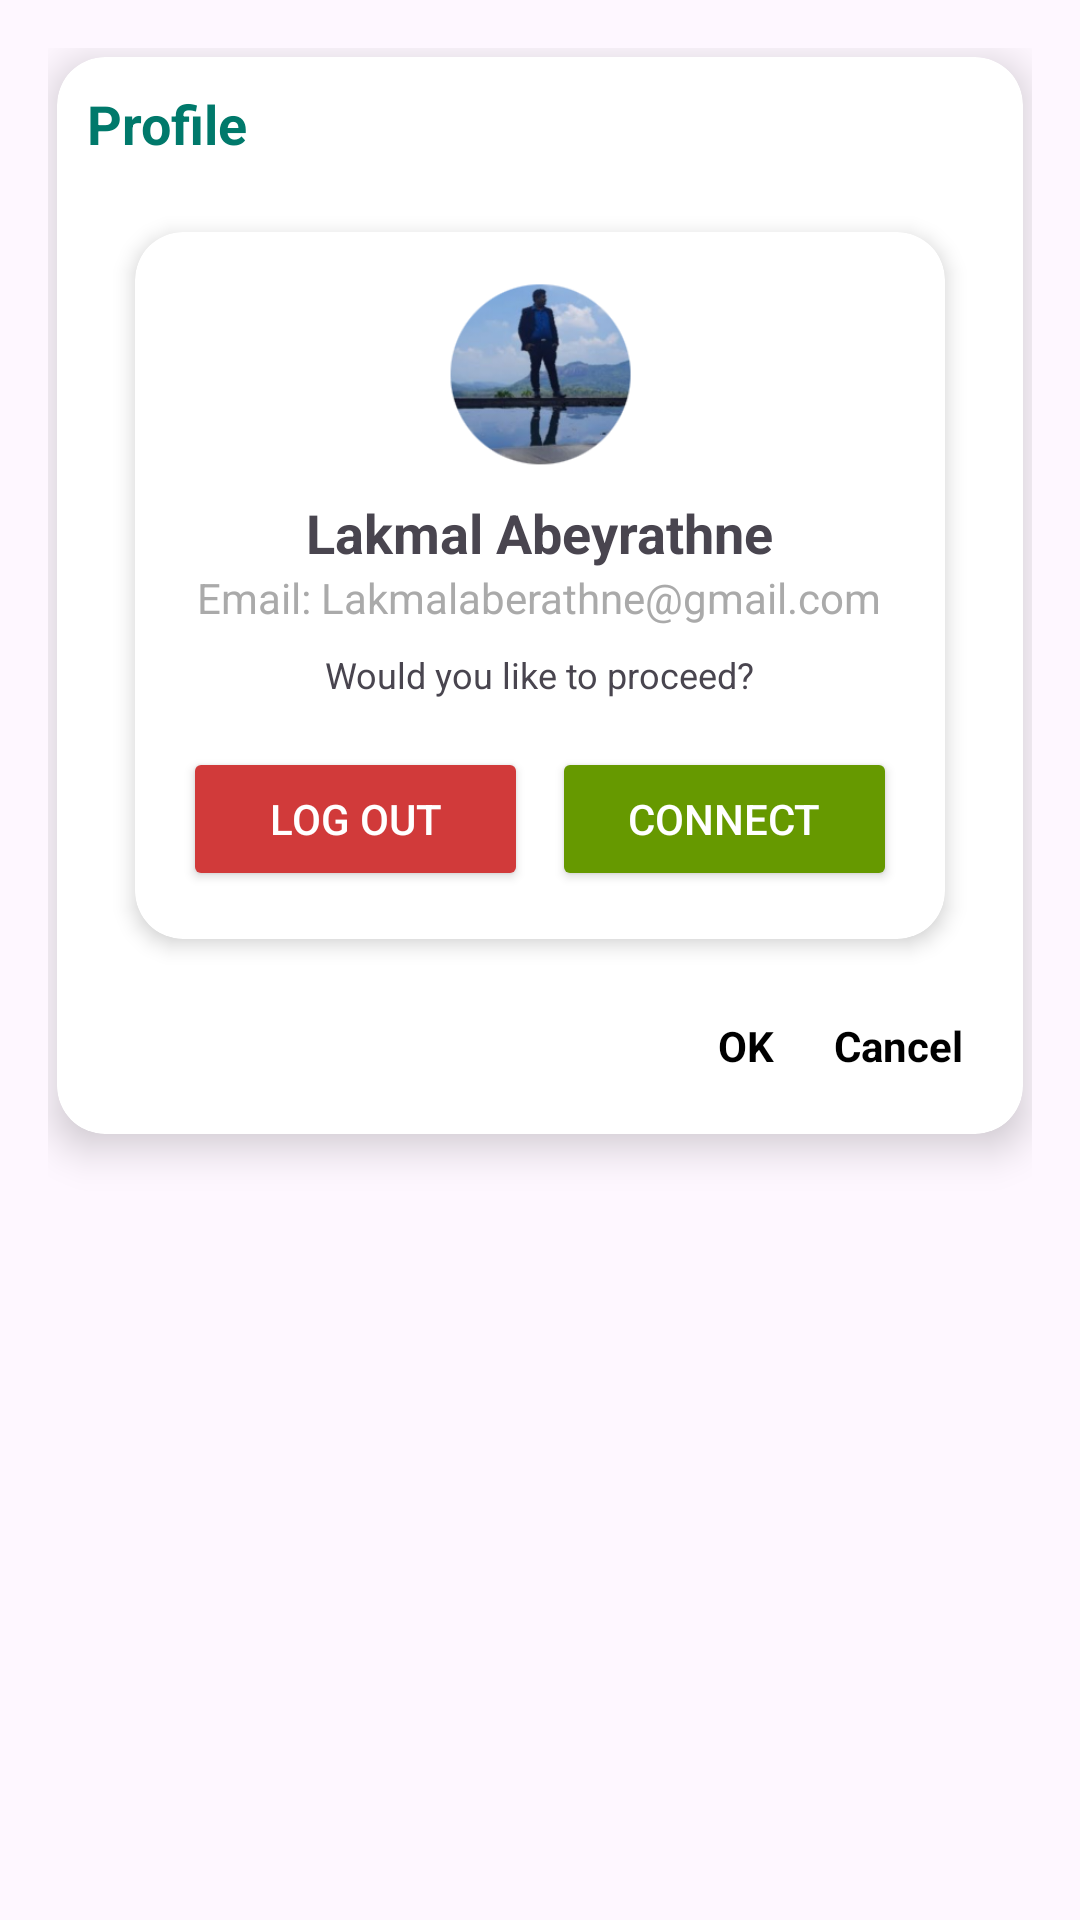

Screen size 1080*1920. Icon name, then its center in pixels as (x,y):
profiles: (540,374)
